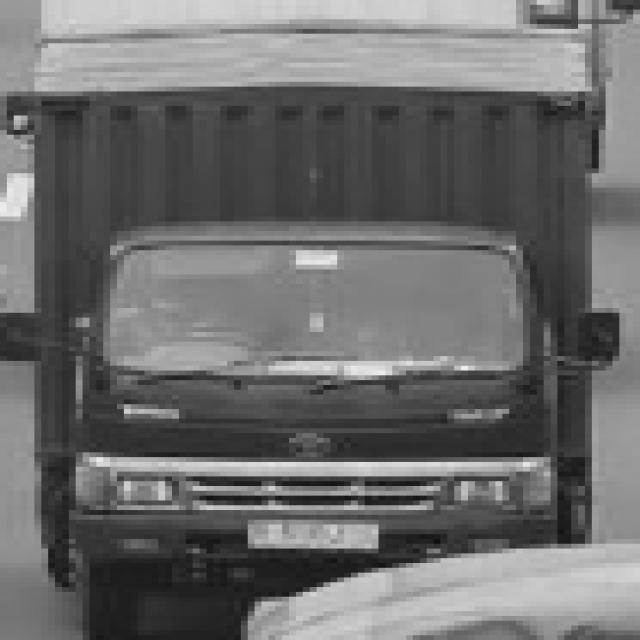Truck: (23, 33, 624, 587)
